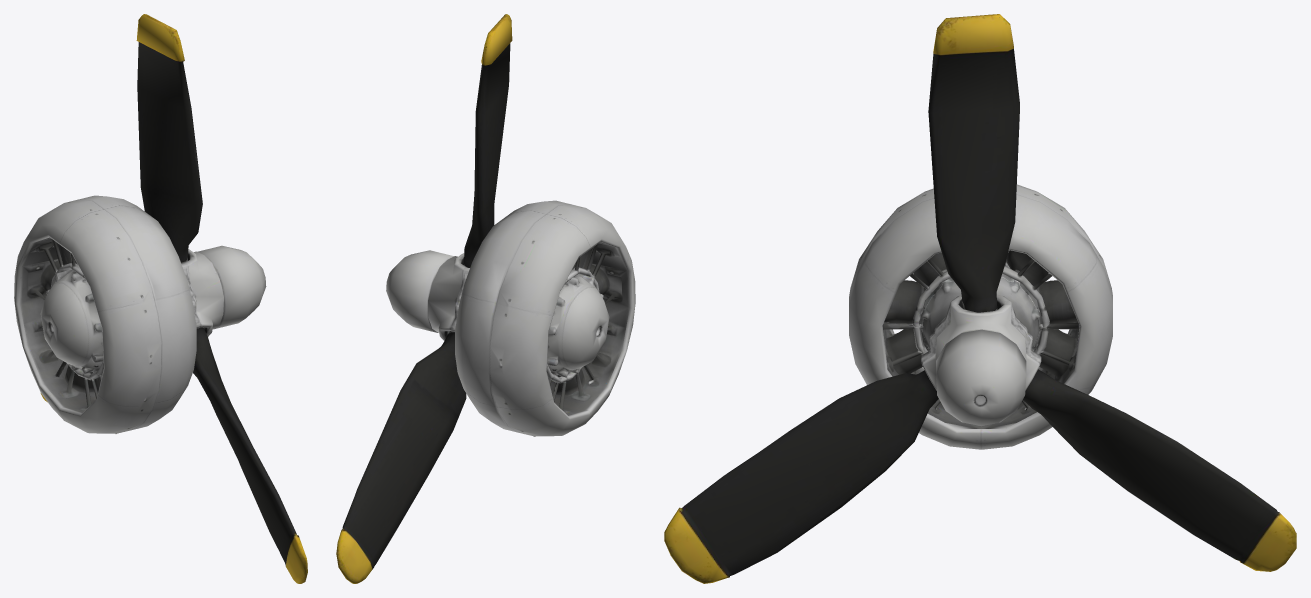
File: prop3_remesh.glb
3 views of the same model, side by side, from view 1: azimuth 30°, elevation 25°; view 2: azimuth 150°, elevation 25°; view 3: azimuth 270°, elevation 25° (orthographic). The views are drawn at different scales.
Visible parts, largest first — view 1: tripo_node_4c3ccb00-f1d2-4eda-9693-d78f8; view 2: tripo_node_4c3ccb00-f1d2-4eda-9693-d78f8; view 3: tripo_node_4c3ccb00-f1d2-4eda-9693-d78f8.
Part boxes in pixels (bbox=[...]): tripo_node_4c3ccb00-f1d2-4eda-9693-d78f8: bbox=[14, 14, 307, 583]; tripo_node_4c3ccb00-f1d2-4eda-9693-d78f8: bbox=[336, 14, 635, 583]; tripo_node_4c3ccb00-f1d2-4eda-9693-d78f8: bbox=[664, 14, 1296, 583].
Bounding box in the file's own units: 0.4384 × 0.9667 × 0.998.
1 material, 1 textured.
